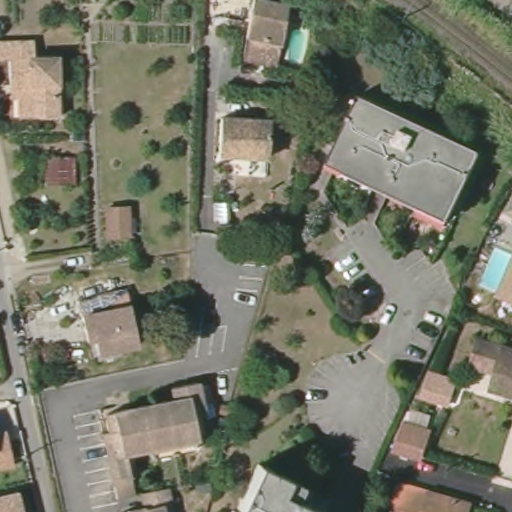pool: (476, 245, 512, 295), (284, 27, 313, 65)
